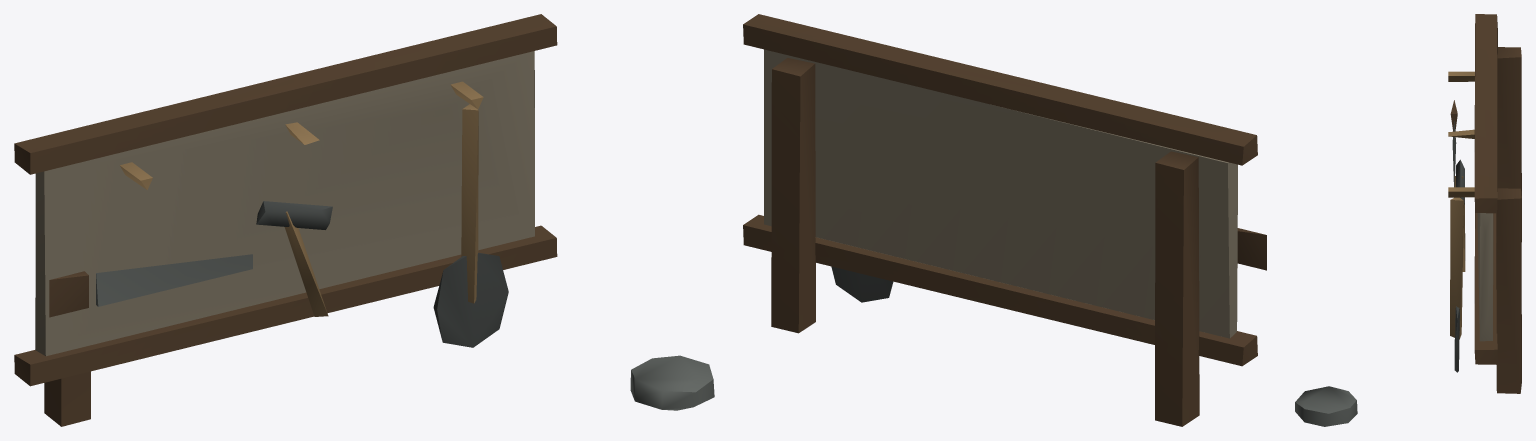
File: tool_peg_a_lod2.glb
The picture shows the model from 3 angles, left to right: view 1: azimuth 30°, elevation 25°; view 2: azimuth 150°, elevation 25°; view 3: azimuth 270°, elevation 25°; orthographic projection. The views are drawn at different scales.
Parts seen in each view (by area): view 1: Surface.001; view 2: Surface.001; view 3: Surface.001.
Part boxes in pixels (x1,y1,x2,y2): Surface.001: (14,14,714,426); Surface.001: (743,14,1266,426); Surface.001: (1295,14,1521,426).
Bounding box in the file's own units: 3.14 × 1.55 × 1.49.
